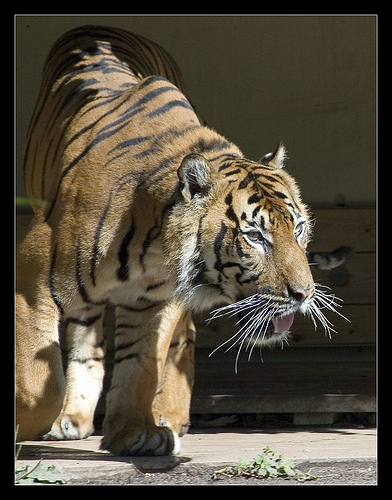Tigre: (32, 28, 341, 470)
